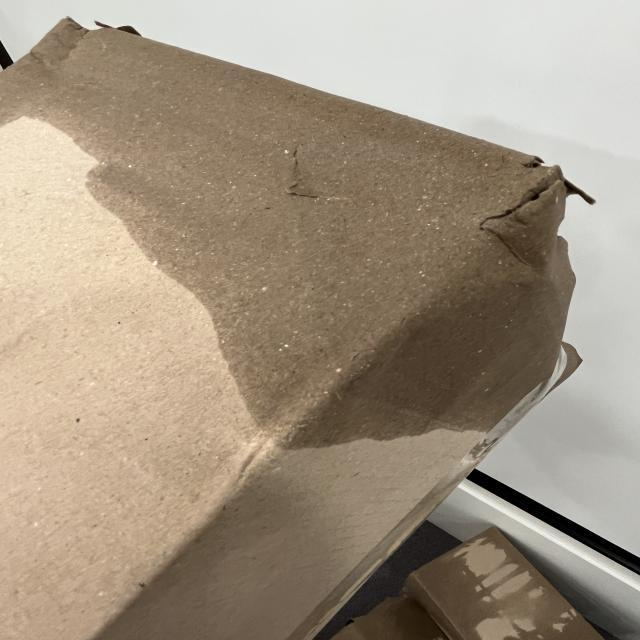wet: (0, 19, 573, 447)
